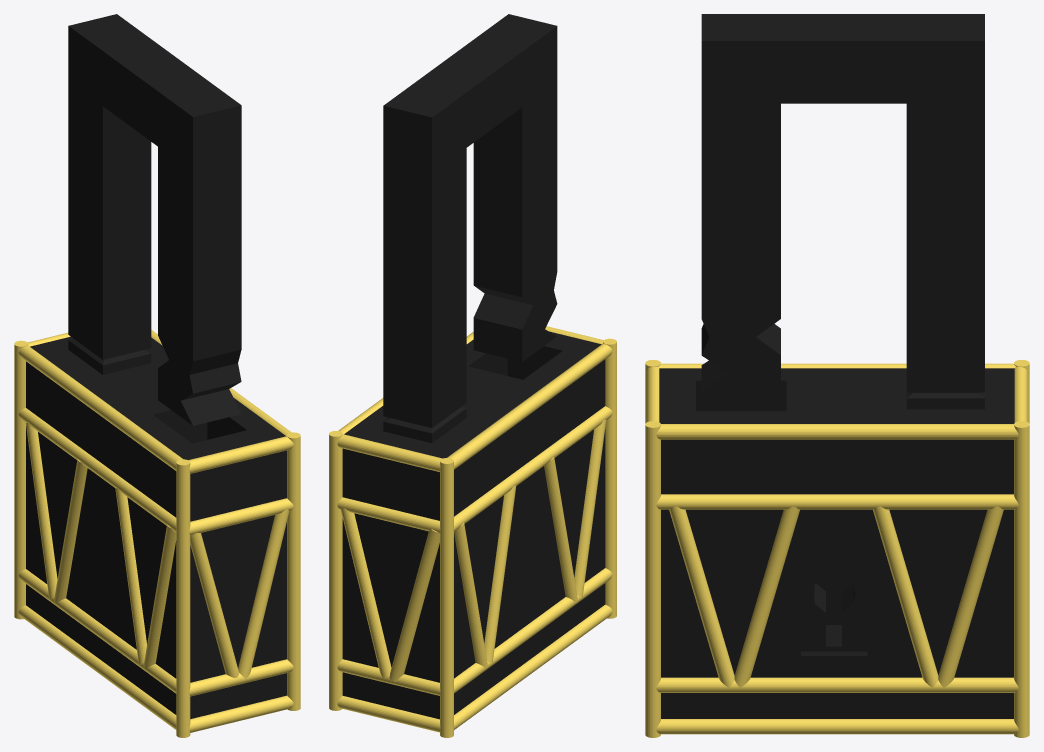
Rendered from lock_ONM-1.fbx.
3 renders of one model, left to right at view 1: azimuth 30°, elevation 25°; view 2: azimuth 150°, elevation 25°; view 3: azimuth 270°, elevation 25°, orthographic. The views are drawn at different scales.
Parts seen in each view (by area): view 1: Cylinder.304; view 2: Cylinder.304; view 3: Cylinder.304.
Boxes of the visible parts, x1,y1,x2,y2 form: Cylinder.304: [14, 14, 300, 737]; Cylinder.304: [329, 14, 616, 737]; Cylinder.304: [645, 14, 1029, 737].
Size of the model in its own units: 2.02 by 9.38 by 4.83.
